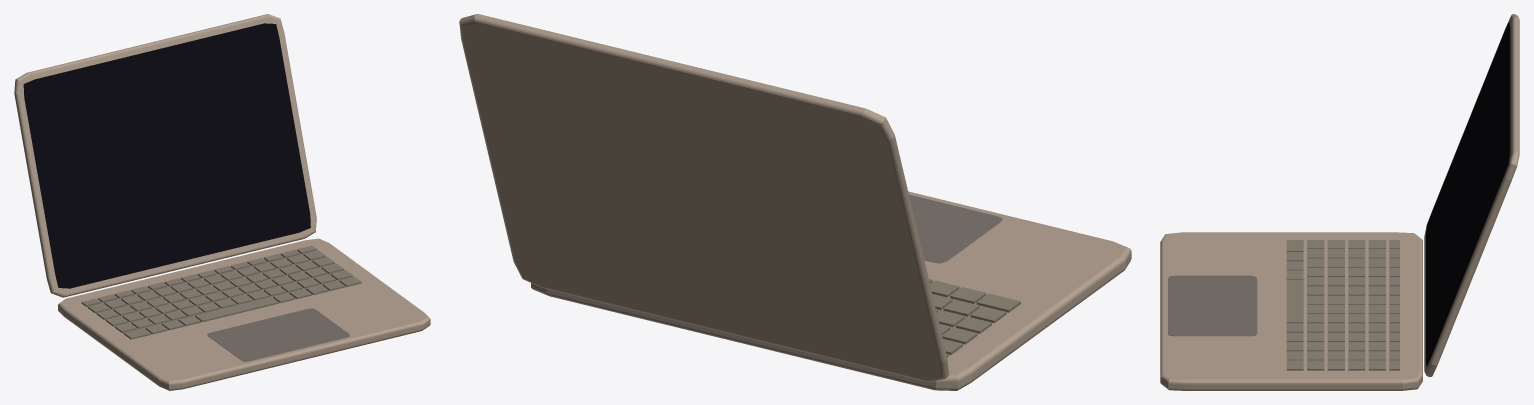
File: laptop.glb
3 renders of one model, left to right at view 1: azimuth 30°, elevation 25°; view 2: azimuth 150°, elevation 25°; view 3: azimuth 270°, elevation 25°, orthographic. The views are drawn at different scales.
Bounding box in the file's own units: 8.48e-06 × 6.17e-06 × 8.6e-06.
